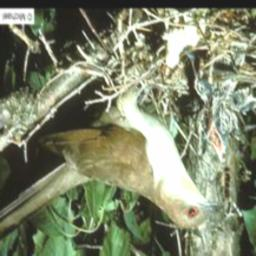Cuckoo: (0, 89, 227, 256)
